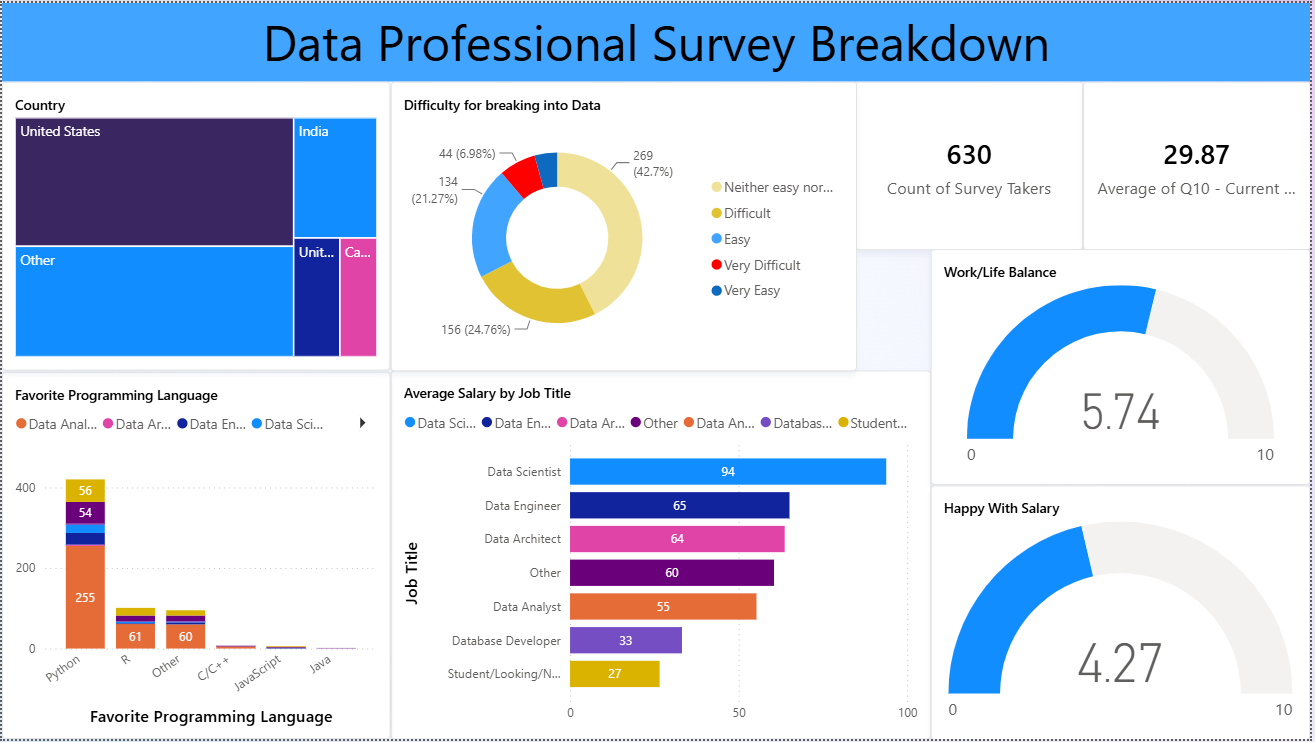

What the dashboard file says about the page in this screenshot:
{"tool":"powerbi","page":{"name":"Page 1","canvas":[1280,720],"ordinal":0},"visuals":[{"type":"textbox","box":[0,0,1280.3,76.8],"z":0},{"type":"card","fields":{"Values":["CountNonNull(Data Professional Survey.Unique ID)"]},"box":[835.7,76.8,222.3,164.7],"z":1000},{"type":"card","fields":{"Values":["Avg(Data Professional Survey.Q10 - Current Age)"]},"box":[1058,76.8,222.3,164.7],"z":2000},{"type":"barChart","title":"Average Salary by Job Title","fields":{"Category":["Data Professional Survey.Q1 - Which Title Best Fits your Current Role?.1"],"Series":["Data Professional Survey.Q1 - Which Title Best Fits your Current Role?.1"],"Y":["Avg(Data Professional Survey.Average Salary)"]},"box":[380,359.5,528.4,360.7],"z":3000},{"type":"columnChart","title":"Favorite Programming Language","fields":{"Category":["Data Professional Survey.Q5 - Favorite Programming Language.1.1"],"Series":["Data Professional Survey.Q1 - Which Title Best Fits your Current Role?.1"],"Y":["CountNonNull(Data Professional Survey.Unique ID)"]},"box":[0,360.7,380,359.5],"z":4000},{"type":"treemap","title":"Country","fields":{"Group":["Data Professional Survey.Q11 - Which Country do you live in?.1"],"Values":["CountNonNull(Data Professional Survey.Q11 - Which Country do you live in?.1)"]},"box":[0,77.2,380,282.3],"z":5000},{"type":"gauge","title":"Work/Life Balance","fields":{"MaxValue":["Max(Data Professional Survey.Q6 - How Happy are you in your Current Position with the following? (Work/Life Balance))1"],"MinValue":["Min(Data Professional Survey.Q6 - How Happy are you in your Current Position with the following? (Work/Life Balance))"],"Y":["Avg(Data Professional Survey.Q6 - How Happy are you in your Current Position with the following? (Work/Life Balance))"]},"box":[908.4,241.3,371.6,230.4],"z":6000},{"type":"gauge","title":"Happy With Salary","fields":{"MaxValue":["Max(Data Professional Survey.Q6 - How Happy are you in your Current Position with the following? (Salary))"],"MinValue":["Min(Data Professional Survey.Q6 - How Happy are you in your Current Position with the following? (Salary))"],"Y":["Avg(Data Professional Survey.Q6 - How Happy are you in your Current Position with the following? (Salary))"]},"box":[908.4,471.7,371.6,248.5],"z":7000},{"type":"donutChart","title":"Difficulty for breaking into Data","fields":{"Category":["Data Professional Survey.Q7 - How difficult was it for you to break into Data?"],"Y":["CountNonNull(Data Professional Survey.Q7 - How difficult was it for you to break into Data?)"]},"box":[380,77.2,456,283.5],"z":8000}]}

Visuals, with their boxes in screenshot pixels (x1, y1, x2, y2), scaled from the page's 1280x720 canvas onto the 1315x742 screenshot:
textbox: Rect(0, 0, 1314, 79)
card - CountNonNull(Data Professional Survey.Unique ID): Rect(859, 79, 1087, 249)
card - Avg(Data Professional Survey.Q10 - Current Age): Rect(1087, 79, 1314, 249)
"Average Salary by Job Title" barChart: Rect(390, 370, 933, 741)
"Favorite Programming Language" columnChart: Rect(0, 372, 390, 741)
"Country" treemap: Rect(0, 80, 390, 370)
"Work/Life Balance" gauge: Rect(933, 249, 1314, 486)
"Happy With Salary" gauge: Rect(933, 486, 1314, 741)
"Difficulty for breaking into Data" donutChart: Rect(390, 80, 859, 372)
